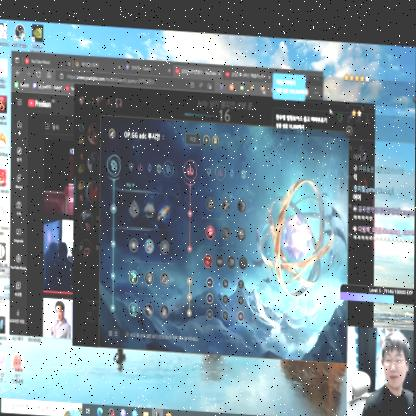streamer: (358, 325, 414, 416)
